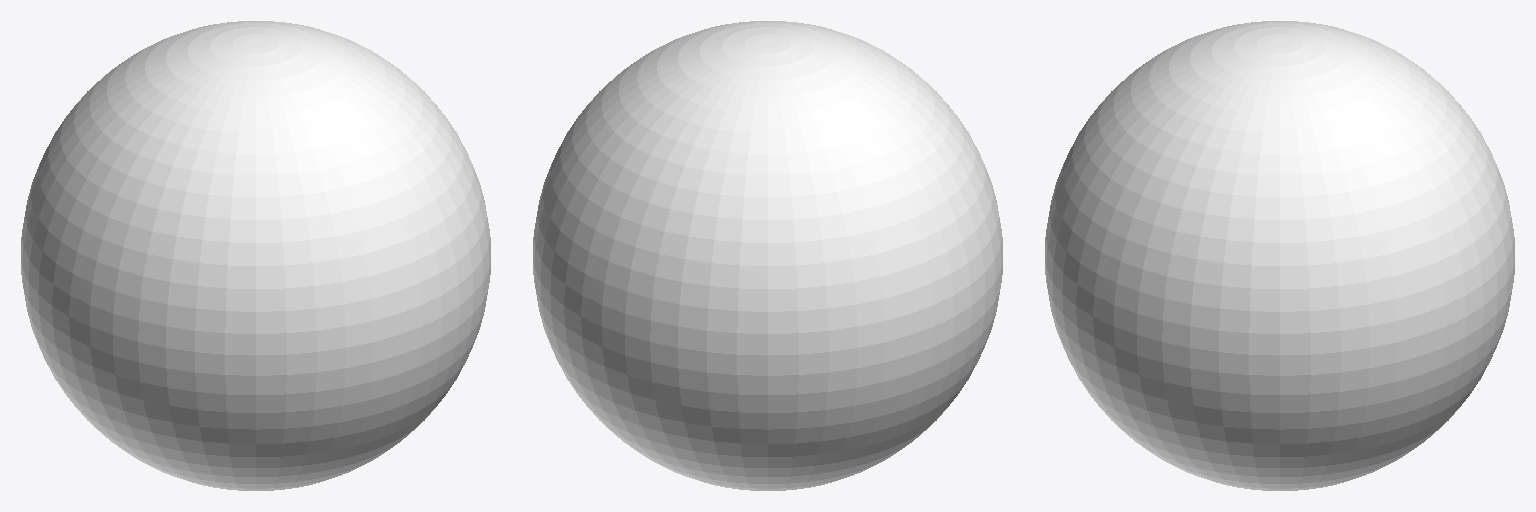
Rendered from earth.obj.
The picture shows the model from 3 angles: view 1: azimuth 30°, elevation 25°; view 2: azimuth 150°, elevation 25°; view 3: azimuth 270°, elevation 25°; orthographic projection.
Parts seen in each view (by area): view 1: Sphere; view 2: Sphere; view 3: Sphere.
Part boxes in pixels (bbox=[...]): Sphere: bbox=[21, 21, 490, 490]; Sphere: bbox=[533, 21, 1002, 490]; Sphere: bbox=[1045, 21, 1514, 490].
Size of the model in its own units: 2 by 2 by 2.